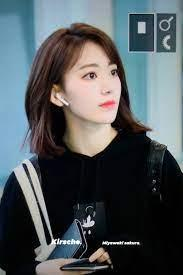earphone: (53, 92, 72, 108)
